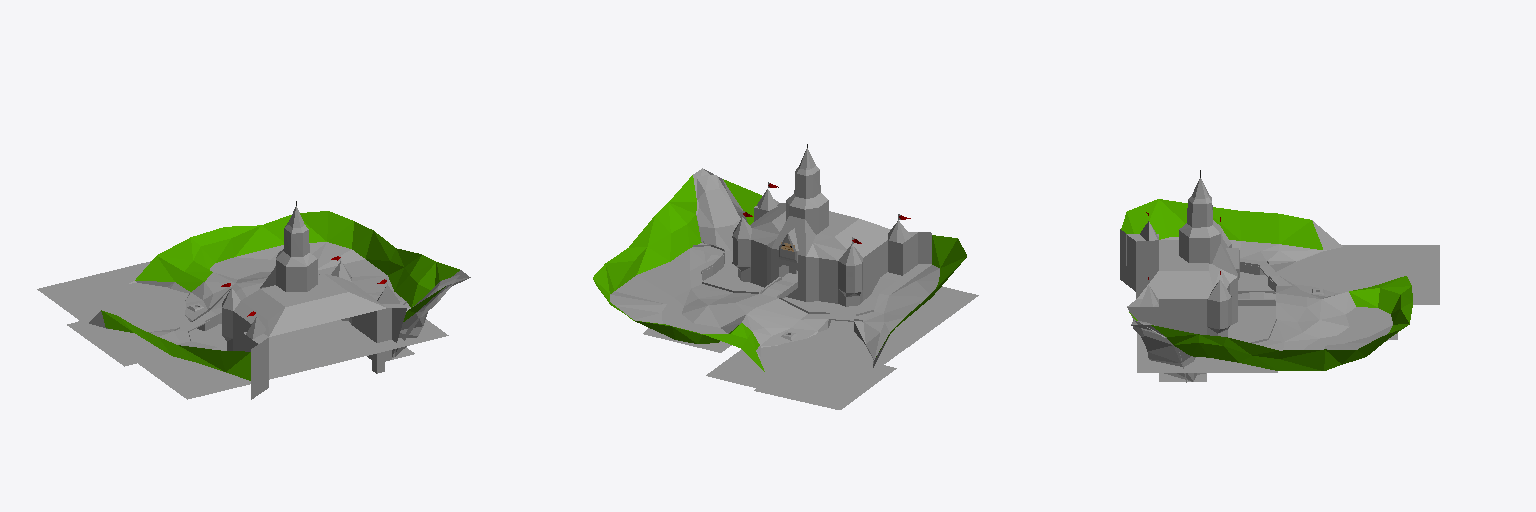
3 renders of one model, left to right at view 1: azimuth 30°, elevation 25°; view 2: azimuth 150°, elevation 25°; view 3: azimuth 270°, elevation 25°, orthographic.
Parts seen in each view (by area): view 1: Shape_IndexedFaceSet_137_Shape_IndexedFaceSet.259, Shape_IndexedFaceSet_038_Shape_IndexedFaceSet.160, Shape_IndexedFaceSet_012_Shape_IndexedFaceSet.134, Shape_IndexedFaceSet_017_Shape_IndexedFaceSet.139, Shape_IndexedFaceSet_022_Shape_IndexedFaceSet.144, Shape_IndexedFaceSet_023_Shape_IndexedFaceSet.145, Shape_IndexedFaceSet_071_Shape_IndexedFaceSet.193, Shape_IndexedFaceSet_034_Shape_IndexedFaceSet.156, Shape_IndexedFaceSet_030_Shape_IndexedFaceSet.152, Shape_IndexedFaceSet_026_Shape_IndexedFaceSet.148, Shape_IndexedFaceSet_070_Shape_IndexedFaceSet.192; view 2: Shape_IndexedFaceSet_137_Shape_IndexedFaceSet.259, Shape_IndexedFaceSet_038_Shape_IndexedFaceSet.160, Shape_IndexedFaceSet_022_Shape_IndexedFaceSet.144, Shape_IndexedFaceSet_017_Shape_IndexedFaceSet.139, Shape_IndexedFaceSet_012_Shape_IndexedFaceSet.134, Shape_IndexedFaceSet_023_Shape_IndexedFaceSet.145, Shape_IndexedFaceSet_136_Shape_IndexedFaceSet.258, Shape_IndexedFaceSet_030_Shape_IndexedFaceSet.152, Shape_IndexedFaceSet_071_Shape_IndexedFaceSet.193, Shape_IndexedFaceSet_026_Shape_IndexedFaceSet.148, Shape_IndexedFaceSet_070_Shape_IndexedFaceSet.192, Shape_IndexedFaceSet_034_Shape_IndexedFaceSet.156 (+1 smaller); view 3: Shape_IndexedFaceSet_038_Shape_IndexedFaceSet.160, Shape_IndexedFaceSet_137_Shape_IndexedFaceSet.259, Shape_IndexedFaceSet_012_Shape_IndexedFaceSet.134, Shape_IndexedFaceSet_017_Shape_IndexedFaceSet.139, Shape_IndexedFaceSet_023_Shape_IndexedFaceSet.145, Shape_IndexedFaceSet_022_Shape_IndexedFaceSet.144, Shape_IndexedFaceSet_071_Shape_IndexedFaceSet.193, Shape_IndexedFaceSet_034_Shape_IndexedFaceSet.156, Shape_IndexedFaceSet_030_Shape_IndexedFaceSet.152, Shape_IndexedFaceSet_070_Shape_IndexedFaceSet.192.
Boxes of the visible parts, x1=… form: Shape_IndexedFaceSet_137_Shape_IndexedFaceSet.259: x1=37, y1=261, x2=448, y2=399; Shape_IndexedFaceSet_038_Shape_IndexedFaceSet.160: x1=101, y1=211, x2=459, y2=380; Shape_IndexedFaceSet_012_Shape_IndexedFaceSet.134: x1=222, y1=261, x2=399, y2=339; Shape_IndexedFaceSet_017_Shape_IndexedFaceSet.139: x1=222, y1=303, x2=406, y2=399; Shape_IndexedFaceSet_022_Shape_IndexedFaceSet.144: x1=151, y1=242, x2=410, y2=347; Shape_IndexedFaceSet_023_Shape_IndexedFaceSet.145: x1=174, y1=257, x2=275, y2=350; Shape_IndexedFaceSet_071_Shape_IndexedFaceSet.193: x1=276, y1=228, x2=317, y2=291; Shape_IndexedFaceSet_034_Shape_IndexedFaceSet.156: x1=89, y1=270, x2=470, y2=357; Shape_IndexedFaceSet_030_Shape_IndexedFaceSet.152: x1=149, y1=272, x2=259, y2=332; Shape_IndexedFaceSet_026_Shape_IndexedFaceSet.148: x1=67, y1=321, x2=136, y2=366; Shape_IndexedFaceSet_070_Shape_IndexedFaceSet.192: x1=276, y1=206, x2=316, y2=266; Shape_IndexedFaceSet_137_Shape_IndexedFaceSet.259: x1=703, y1=250, x2=978, y2=405; Shape_IndexedFaceSet_038_Shape_IndexedFaceSet.160: x1=593, y1=175, x2=966, y2=371; Shape_IndexedFaceSet_022_Shape_IndexedFaceSet.144: x1=610, y1=243, x2=939, y2=332; Shape_IndexedFaceSet_017_Shape_IndexedFaceSet.139: x1=733, y1=199, x2=931, y2=306; Shape_IndexedFaceSet_012_Shape_IndexedFaceSet.134: x1=733, y1=189, x2=911, y2=265; Shape_IndexedFaceSet_023_Shape_IndexedFaceSet.145: x1=643, y1=247, x2=921, y2=352; Shape_IndexedFaceSet_136_Shape_IndexedFaceSet.258: x1=697, y1=175, x2=740, y2=251; Shape_IndexedFaceSet_030_Shape_IndexedFaceSet.152: x1=721, y1=303, x2=889, y2=359; Shape_IndexedFaceSet_071_Shape_IndexedFaceSet.193: x1=786, y1=170, x2=828, y2=234; Shape_IndexedFaceSet_026_Shape_IndexedFaceSet.148: x1=754, y1=365, x2=896, y2=409; Shape_IndexedFaceSet_070_Shape_IndexedFaceSet.192: x1=787, y1=148, x2=827, y2=209; Shape_IndexedFaceSet_034_Shape_IndexedFaceSet.156: x1=693, y1=168, x2=888, y2=367; Shape_IndexedFaceSet_038_Shape_IndexedFaceSet.160: x1=1121, y1=199, x2=1412, y2=370; Shape_IndexedFaceSet_137_Shape_IndexedFaceSet.259: x1=1137, y1=245, x2=1439, y2=372; Shape_IndexedFaceSet_012_Shape_IndexedFaceSet.134: x1=1136, y1=221, x2=1238, y2=306; Shape_IndexedFaceSet_017_Shape_IndexedFaceSet.139: x1=1120, y1=229, x2=1238, y2=336; Shape_IndexedFaceSet_023_Shape_IndexedFaceSet.145: x1=1240, y1=259, x2=1397, y2=346; Shape_IndexedFaceSet_022_Shape_IndexedFaceSet.144: x1=1161, y1=237, x2=1392, y2=350; Shape_IndexedFaceSet_071_Shape_IndexedFaceSet.193: x1=1179, y1=200, x2=1220, y2=263; Shape_IndexedFaceSet_034_Shape_IndexedFaceSet.156: x1=1131, y1=220, x2=1342, y2=381; Shape_IndexedFaceSet_030_Shape_IndexedFaceSet.152: x1=1268, y1=244, x2=1355, y2=313; Shape_IndexedFaceSet_070_Shape_IndexedFaceSet.192: x1=1179, y1=178, x2=1220, y2=237.
Size of the model in its own units: 16.44 by 9.96 by 16.22.
76 materials, 1 textured.